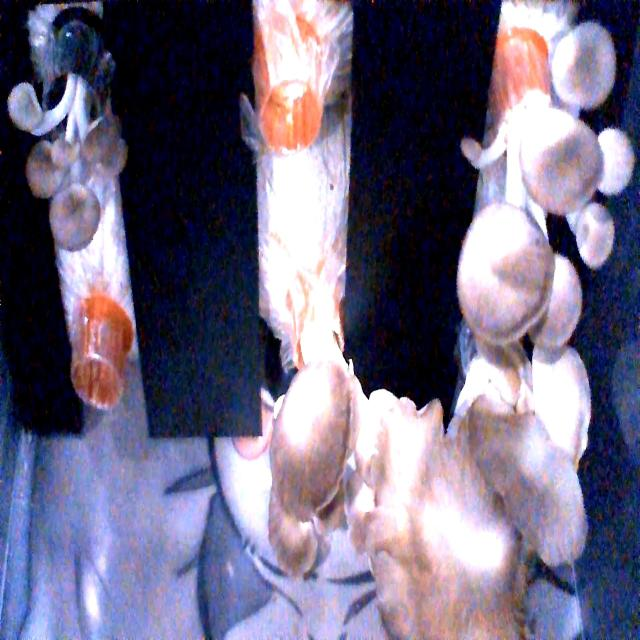big: (452, 0, 636, 371), (358, 363, 602, 640), (249, 310, 380, 557)
nfound: (259, 79, 328, 159), (65, 346, 129, 432)
small: (4, 52, 151, 231)
